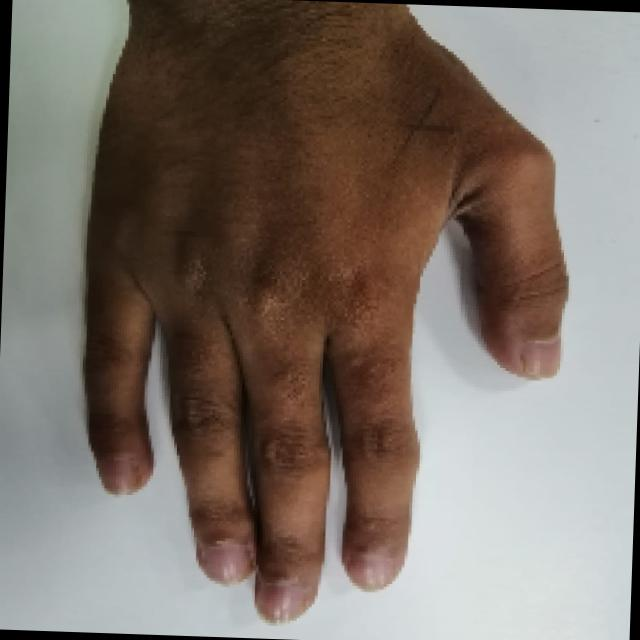Nail: (199, 543, 249, 583), (254, 582, 305, 619), (518, 334, 560, 378), (350, 553, 396, 591), (96, 457, 142, 494)
